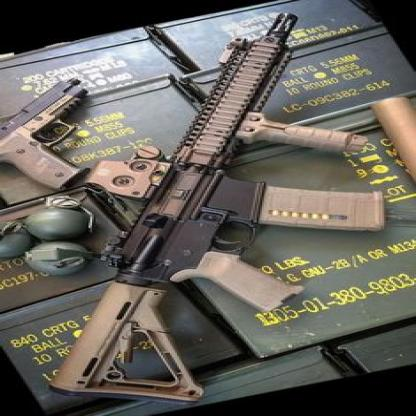Grenade: (24, 194, 100, 240), (25, 241, 94, 277), (0, 216, 32, 258)
Gun: (48, 11, 387, 406)
Pistol: (0, 77, 115, 190)
